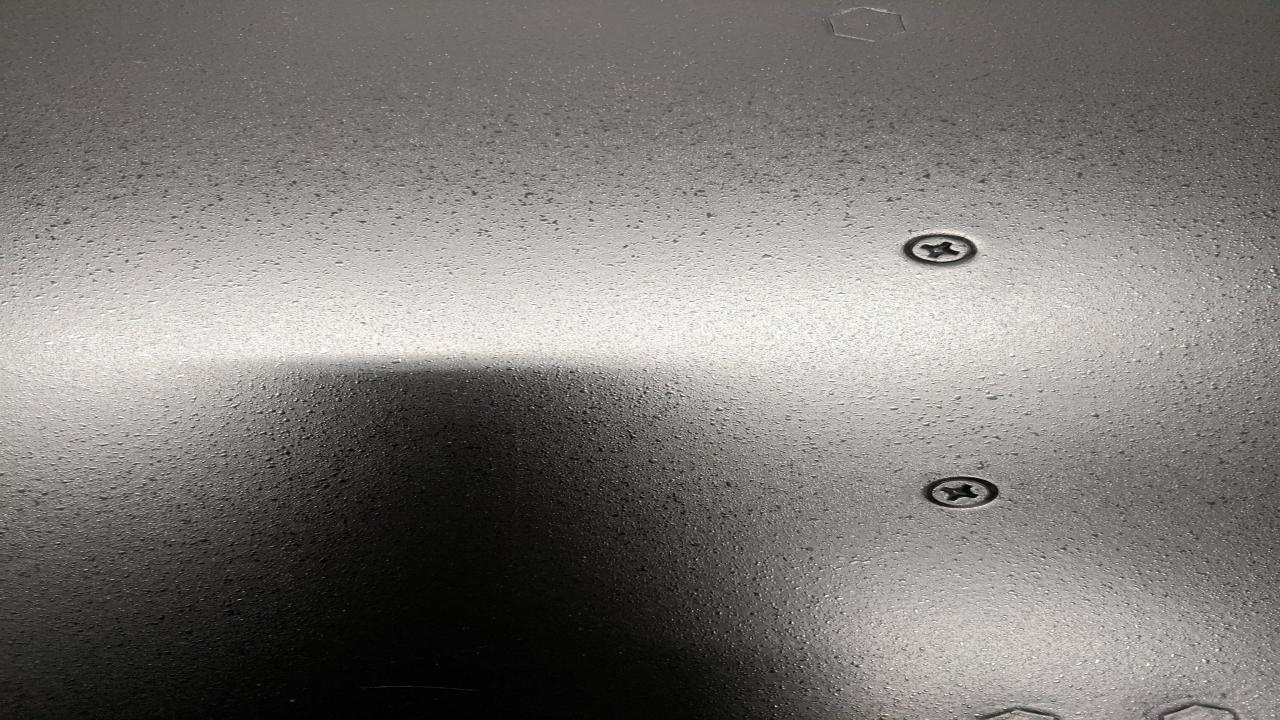CRS: (903, 233, 972, 268), (926, 478, 998, 510)
